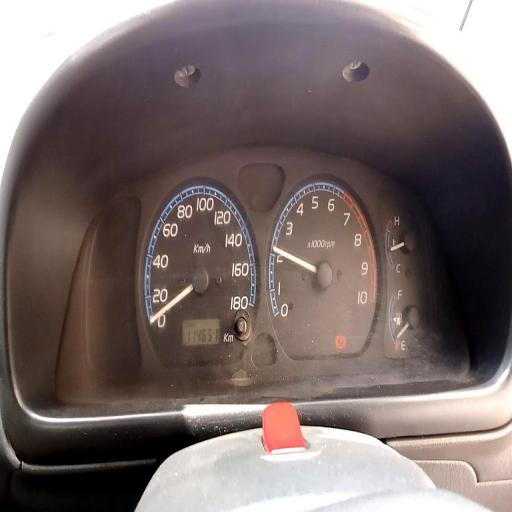brake_system_fault: (336, 334, 346, 349)
tachometer: (265, 174, 381, 359)
